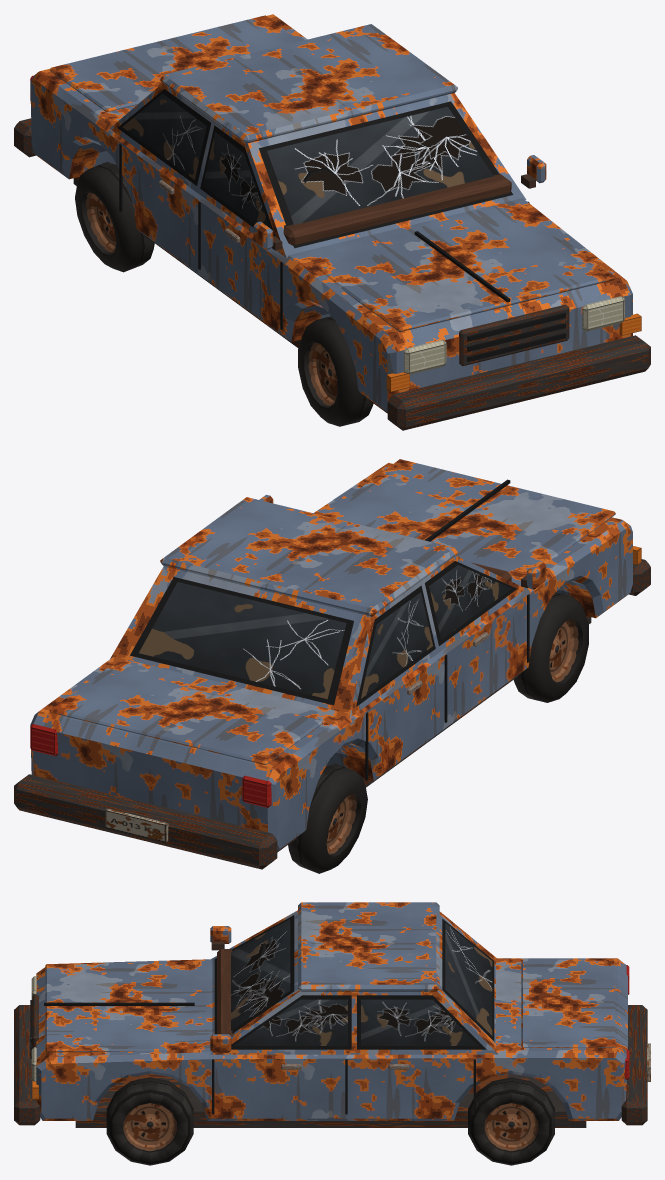
The model's file is Car_Sedan.fbx.
3 renders of one model, top to bottom at view 1: azimuth 30°, elevation 25°; view 2: azimuth 150°, elevation 25°; view 3: azimuth 270°, elevation 25°, orthographic. The views are drawn at different scales.
Parts seen in each view (by area): view 1: Car_Sedan_Body, Car_Sedan_Wheel_RL, Car_Sedan_Wheel_FL; view 2: Car_Sedan_Body, Car_Sedan_Wheel_RL, Car_Sedan_Wheel_FL; view 3: Car_Sedan_Body, Car_Sedan_Wheel_FR, Car_Sedan_Wheel_RR.
Boxes of the visible parts, bbox=[...] form: Car_Sedan_Body: bbox=[14, 14, 650, 430]; Car_Sedan_Wheel_RL: bbox=[75, 162, 154, 272]; Car_Sedan_Wheel_FL: bbox=[298, 316, 373, 426]; Car_Sedan_Body: bbox=[14, 459, 650, 869]; Car_Sedan_Wheel_RL: bbox=[288, 763, 367, 873]; Car_Sedan_Wheel_FL: bbox=[513, 592, 588, 702]; Car_Sedan_Body: bbox=[14, 902, 650, 1127]; Car_Sedan_Wheel_FR: bbox=[106, 1077, 193, 1165]; Car_Sedan_Wheel_RR: bbox=[468, 1077, 554, 1165].
Bounding box in the file's own units: 2.03 × 1.55 × 4.87.
Materials: 2 (2 with a texture image).
